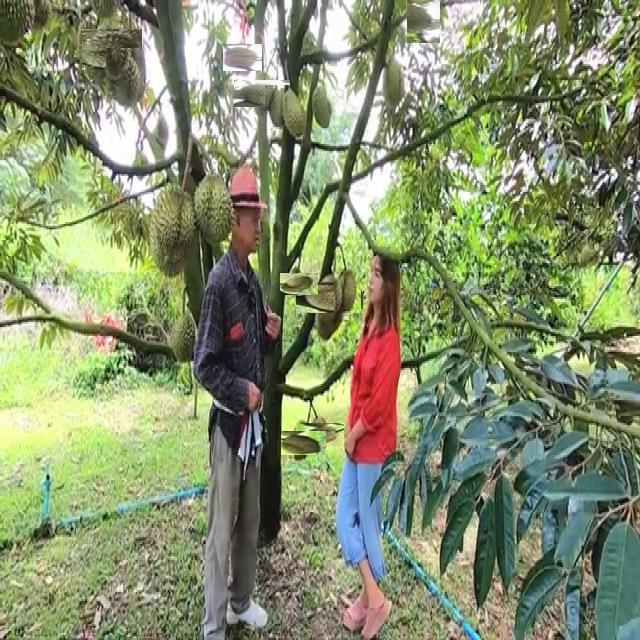durian: (144, 179, 198, 294), (189, 161, 237, 250), (87, 24, 138, 75), (165, 307, 202, 372), (305, 274, 354, 322), (105, 48, 144, 106), (241, 72, 283, 114), (381, 53, 410, 110), (280, 87, 310, 141), (404, 0, 445, 39), (334, 263, 361, 317), (265, 85, 292, 134), (302, 416, 338, 452), (286, 426, 322, 460), (311, 78, 334, 131), (225, 41, 259, 74), (284, 269, 314, 300)
